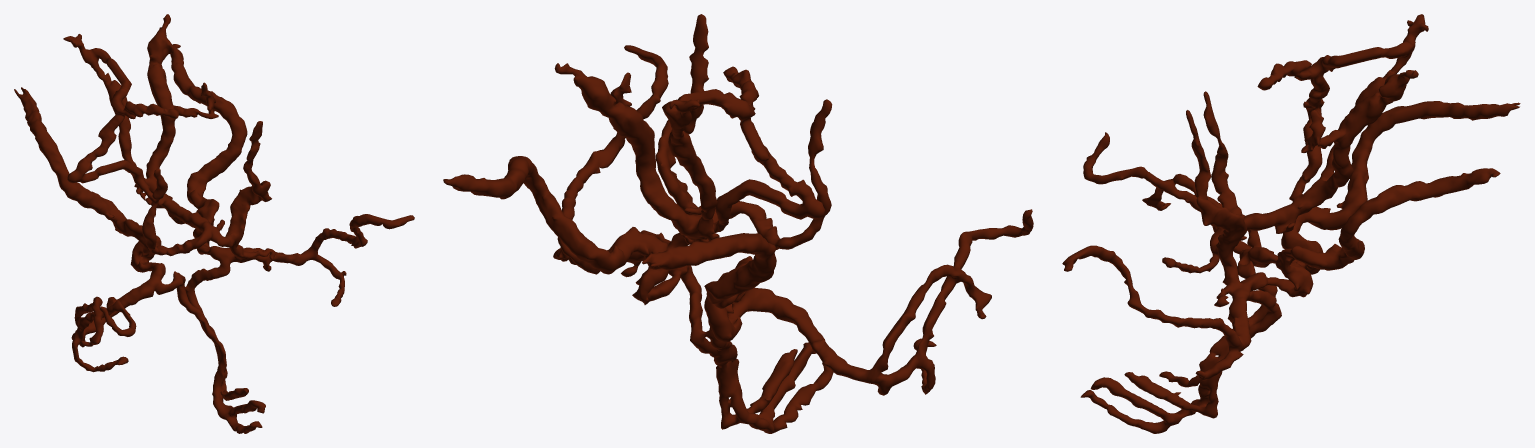
Rendered from Arteries.obj.
3 renders of one model, left to right at view 1: azimuth 30°, elevation 25°; view 2: azimuth 150°, elevation 25°; view 3: azimuth 270°, elevation 25°, orthographic. The views are drawn at different scales.
Visible parts, largest first — view 1: grp1; view 2: grp1; view 3: grp1.
Boxes of the visible parts, x1=… form: grp1: x1=14, y1=14, x2=414, y2=433; grp1: x1=443, y1=14, x2=1033, y2=433; grp1: x1=1062, y1=14, x2=1520, y2=433.
Size of the model in its own units: 89.7 by 93.67 by 101.
